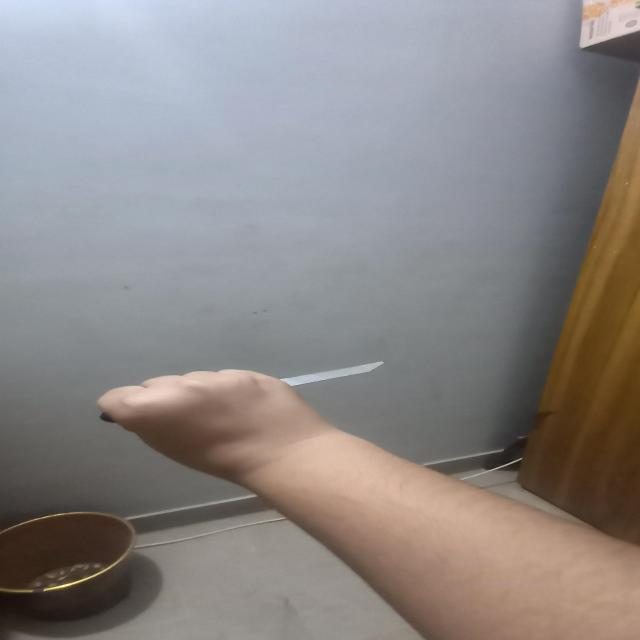Knife: (82, 356, 393, 410)
